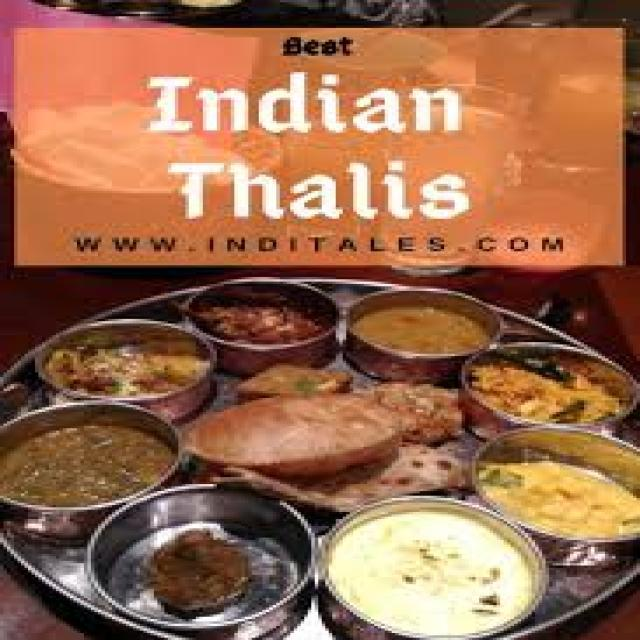pickle: (93, 505, 308, 627)
rice: (481, 455, 635, 541)
sambar-rasam: (348, 289, 506, 363)
veg-fry: (178, 284, 343, 355), (348, 292, 509, 364)
